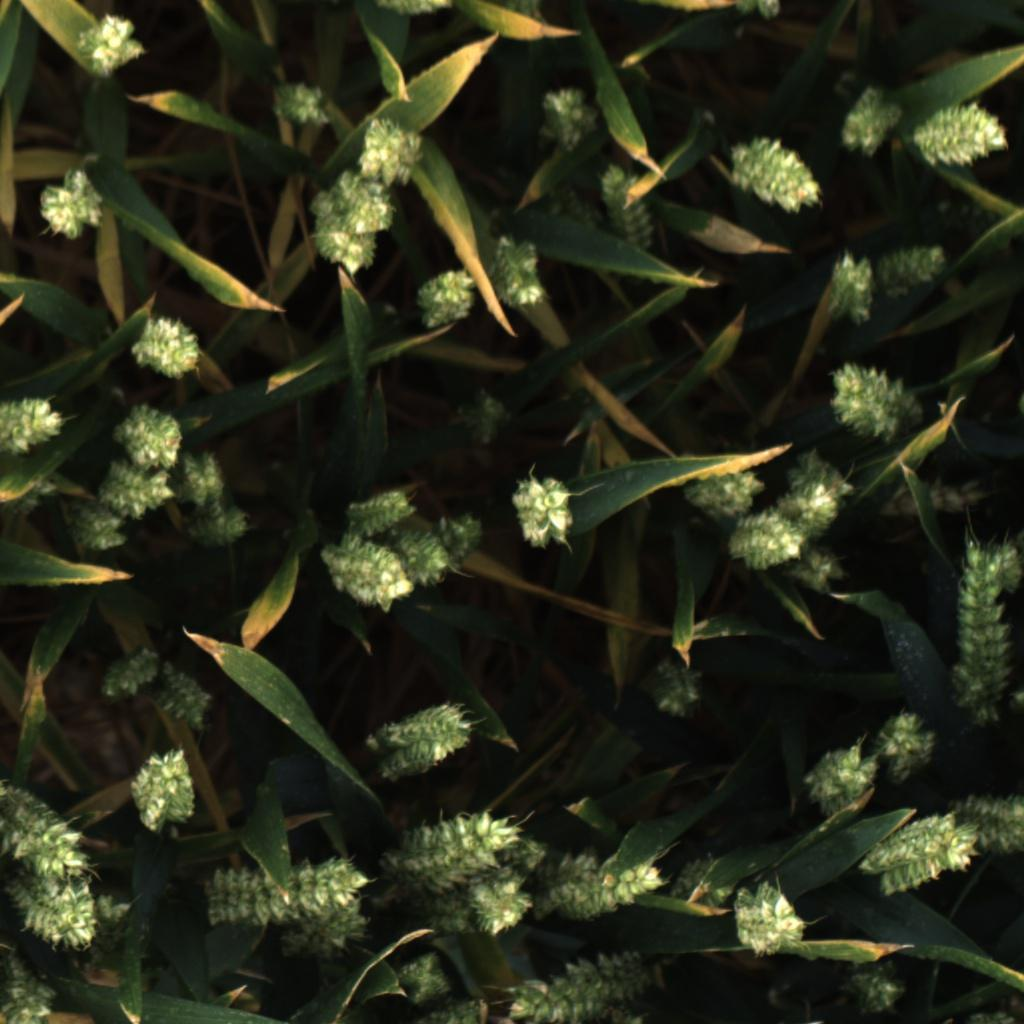0-0: (374, 805, 531, 902), (949, 536, 1024, 733), (851, 804, 983, 902), (207, 854, 375, 921), (0, 774, 96, 886), (503, 949, 645, 1023), (0, 857, 99, 954), (818, 357, 925, 445), (768, 446, 863, 543), (721, 132, 829, 217), (369, 696, 478, 778), (319, 537, 414, 621), (908, 101, 1015, 173), (558, 857, 663, 929), (303, 179, 378, 278), (123, 745, 201, 834), (271, 901, 374, 967), (590, 163, 667, 251), (725, 881, 810, 960), (936, 784, 1024, 859), (524, 845, 608, 923), (108, 398, 197, 471), (120, 314, 207, 387), (507, 474, 583, 557), (407, 259, 482, 341), (827, 82, 904, 161), (871, 230, 955, 302), (865, 473, 991, 521), (33, 166, 112, 242), (806, 736, 881, 816), (353, 116, 437, 186), (870, 702, 942, 781), (812, 247, 880, 330), (332, 166, 404, 241), (93, 463, 180, 524), (67, 11, 144, 79), (729, 506, 806, 573), (665, 851, 744, 916), (531, 83, 607, 150), (488, 236, 552, 312), (683, 462, 766, 518), (389, 940, 456, 1009), (0, 387, 66, 456), (396, 527, 458, 600), (176, 505, 263, 557), (469, 875, 539, 939), (159, 663, 222, 733), (0, 955, 62, 1024), (266, 70, 335, 132), (95, 646, 157, 712), (785, 537, 847, 601), (652, 655, 709, 724), (845, 964, 917, 1018), (63, 503, 130, 561), (346, 482, 418, 535), (166, 452, 230, 510), (417, 886, 486, 939), (458, 384, 512, 448), (411, 988, 498, 1024), (441, 506, 490, 564), (0, 476, 61, 521), (498, 838, 552, 885), (88, 891, 137, 931), (372, 0, 461, 19), (730, 0, 785, 23), (995, 685, 1024, 719)
